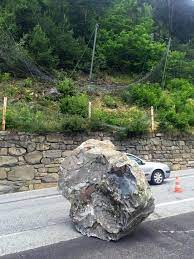car: (125, 151, 171, 187)
obstacle: (60, 140, 155, 240), (173, 173, 183, 194)
